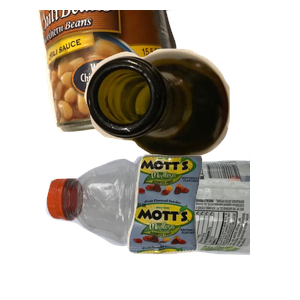glass: (82, 46, 300, 199)
metal: (34, 10, 213, 135)
plastic: (43, 152, 283, 300)
trash: (125, 152, 300, 300)
